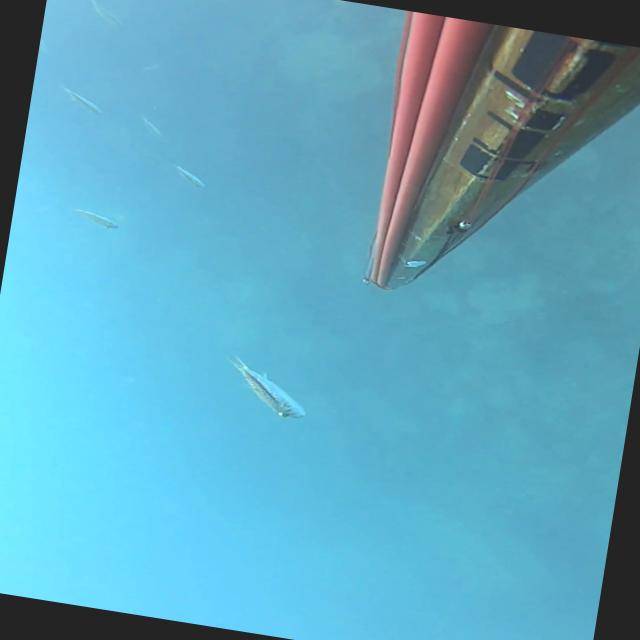Balon Baligi: (218, 352, 316, 421), (57, 85, 106, 114), (86, 0, 128, 29), (70, 207, 122, 229), (167, 162, 208, 188), (136, 114, 166, 138)
